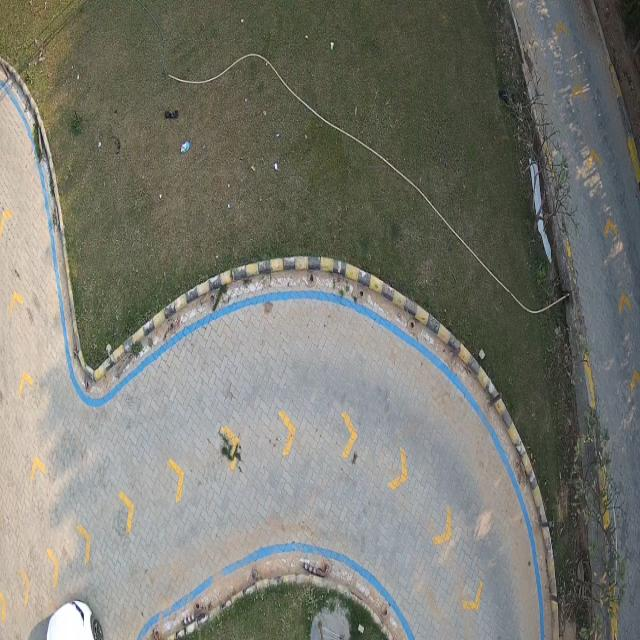car: (29, 602, 98, 640)
